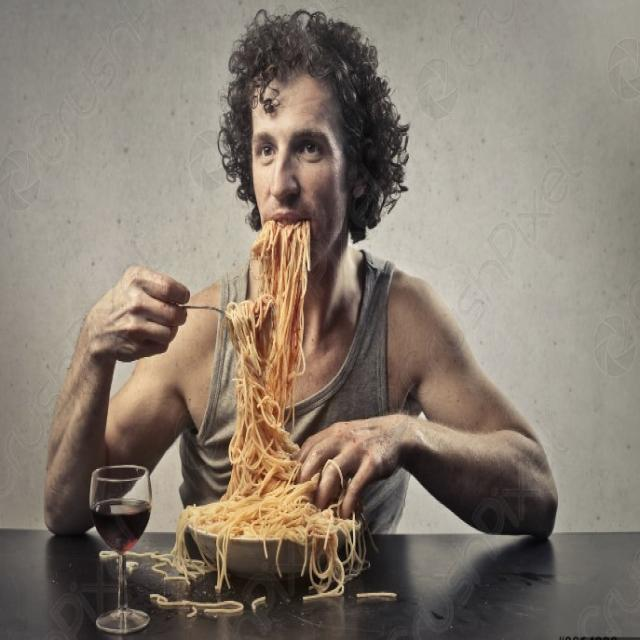eating-person: (39, 0, 568, 640)
